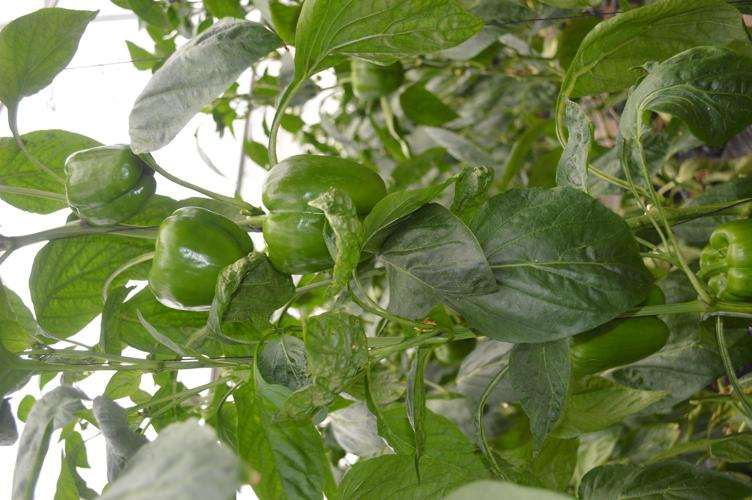BellPepper: (243, 158, 390, 273), (134, 215, 259, 310), (56, 145, 156, 237), (549, 321, 674, 378)
